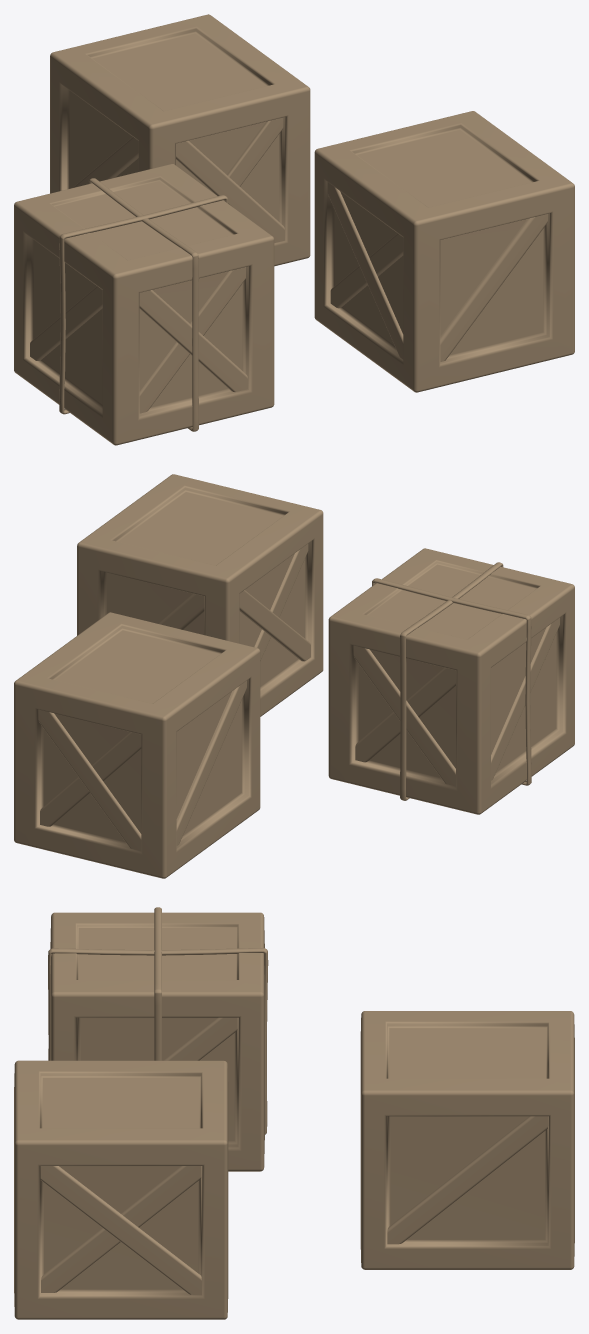
3 renders of one model, top to bottom at view 1: azimuth 30°, elevation 25°; view 2: azimuth 150°, elevation 25°; view 3: azimuth 270°, elevation 25°, orthographic. The views are drawn at different scales.
Parts seen in each view (by area): view 1: polySurface200, polySurface205, polySurface202, polySurface203, polySurface191, polySurface190, polySurface194, polySurface193, polySurface201, polySurface192, polySurface187, polySurface195 (+2 smaller); view 2: polySurface202, polySurface205, polySurface200, polySurface197, polySurface209, polySurface198, polySurface199, polySurface196, polySurface201, polySurface192, polySurface187, polySurface193 (+2 smaller); view 3: polySurface202, polySurface200, polySurface205, polySurface188, polySurface189, polySurface207, polySurface192, polySurface204, polySurface201.
Part boxes in pixels (x1,y1,x2,y2): polySurface200: (314,111,574,392); polySurface205: (14,164,274,445); polySurface202: (50,14,310,266); polySurface203: (440,214,547,361); polySurface191: (139,290,247,391); polySurface190: (176,140,284,242); polySurface194: (139,267,245,413); polySurface193: (327,182,403,359); polySurface201: (59,195,227,414); polySurface192: (88,178,198,431); polySurface187: (30,286,102,360); polySurface195: (330,233,403,308); polySurface202: (14,612,260,878); polySurface205: (328,548,574,814); polySurface200: (77,474,323,716); polySurface197: (38,709,141,850); polySurface209: (353,645,455,786); polySurface198: (355,667,455,762); polySurface199: (40,732,141,826); polySurface196: (176,680,246,845); polySurface201: (372,578,531,785); polySurface192: (400,562,503,800); polySurface187: (491,617,559,780); polySurface193: (239,590,310,661); polySurface202: (360,1011,574,1269); polySurface200: (14,1060,228,1319); polySurface205: (50,912,264,1171); polySurface188: (40,1166,201,1294); polySurface189: (387,1116,548,1244); polySurface207: (41,1166,201,1292); polySurface192: (48,948,268,1134); polySurface204: (164,1017,237,1060); polySurface201: (154,907,161,1060).
Bounding box in the file's own units: 129 × 49.38 × 133.
